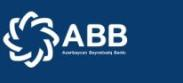ABB: (2, 10, 60, 69)
